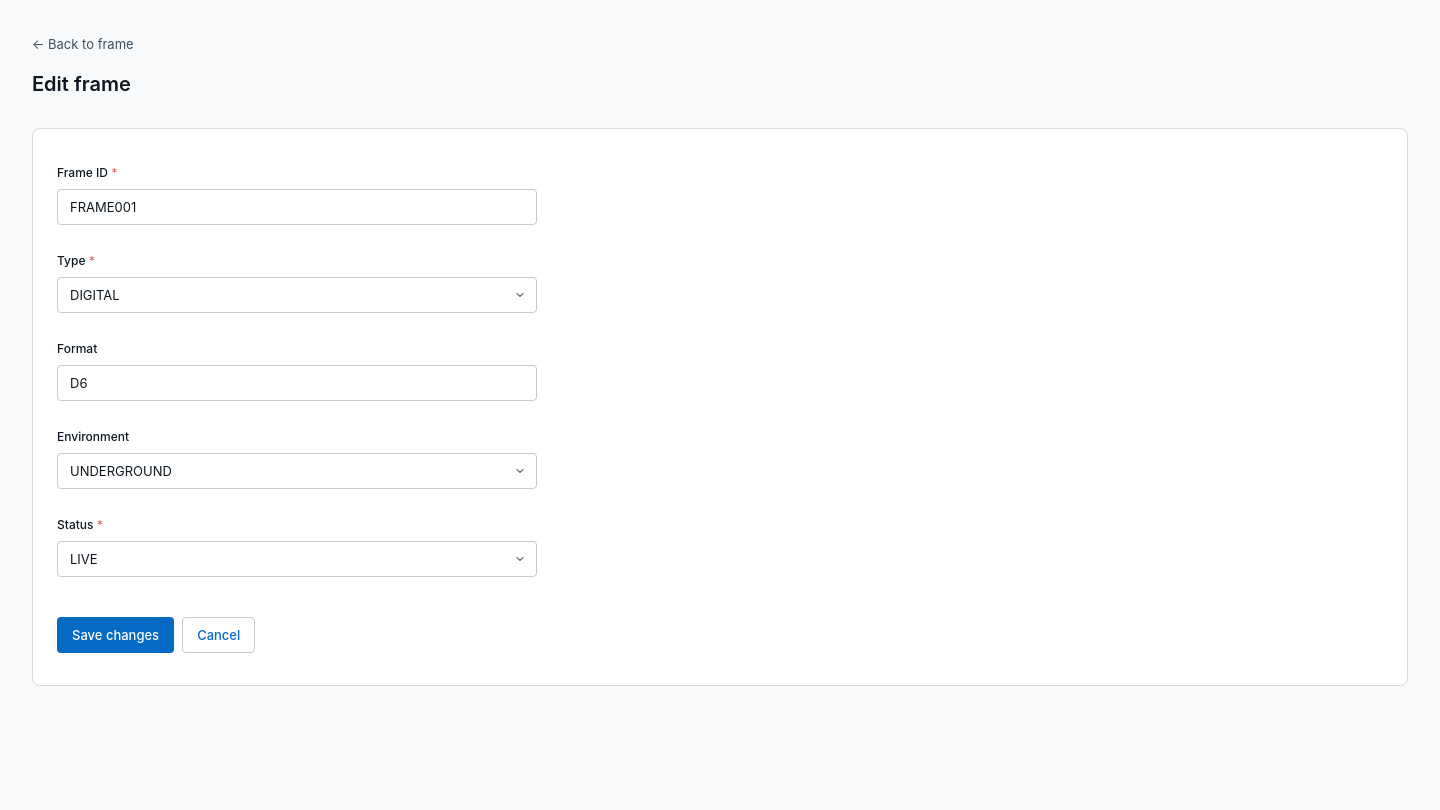
Scenario: FrameFormPage › Edit mode › shows error message when update fails
Expected: the field labelled "Frame ID *" holds "FRAME001", [57,189,537,225]
Click the button "Save changes".
click(116, 635)  # box [57,617,174,653]
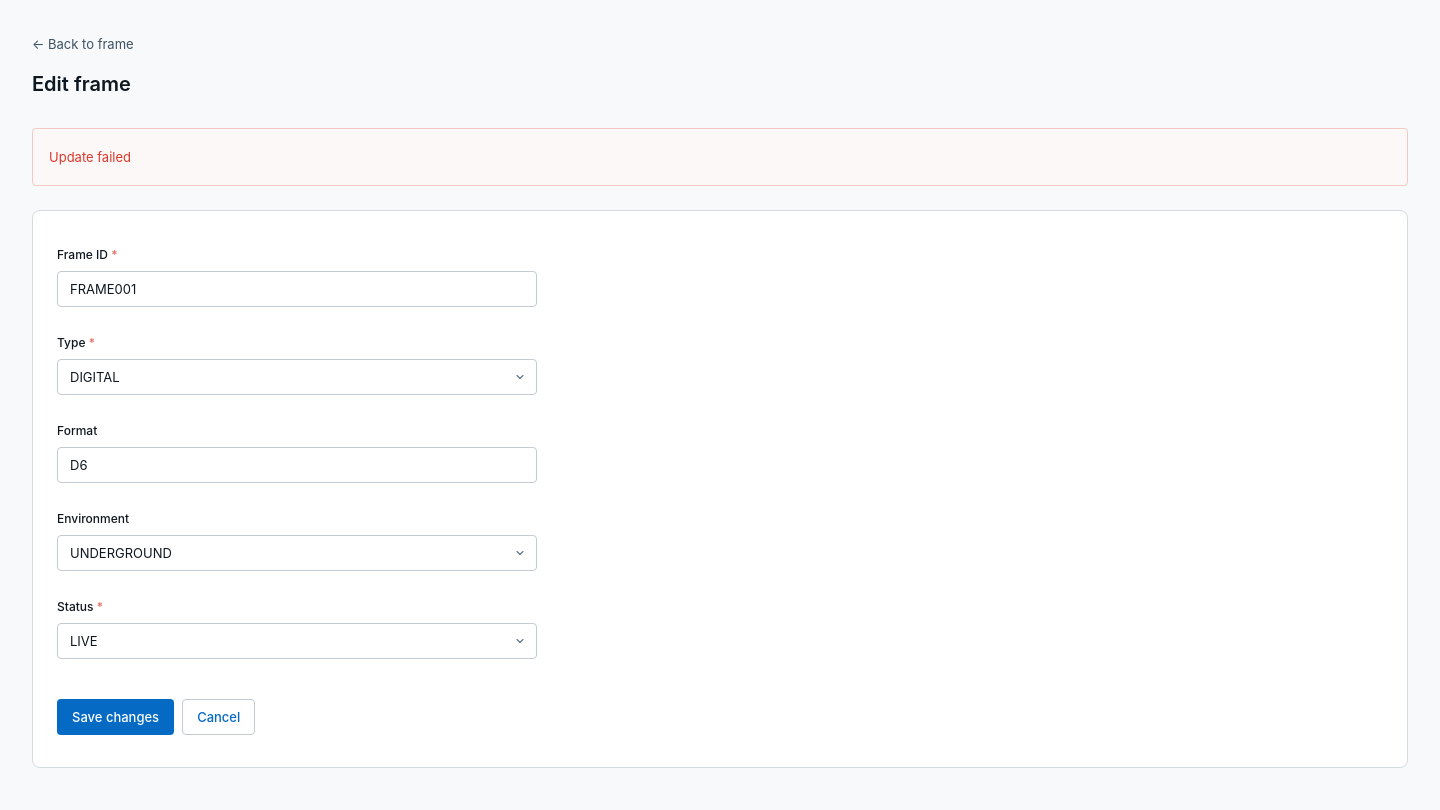
Expected: the text "Update failed" is shown, [32,128,1408,186]
